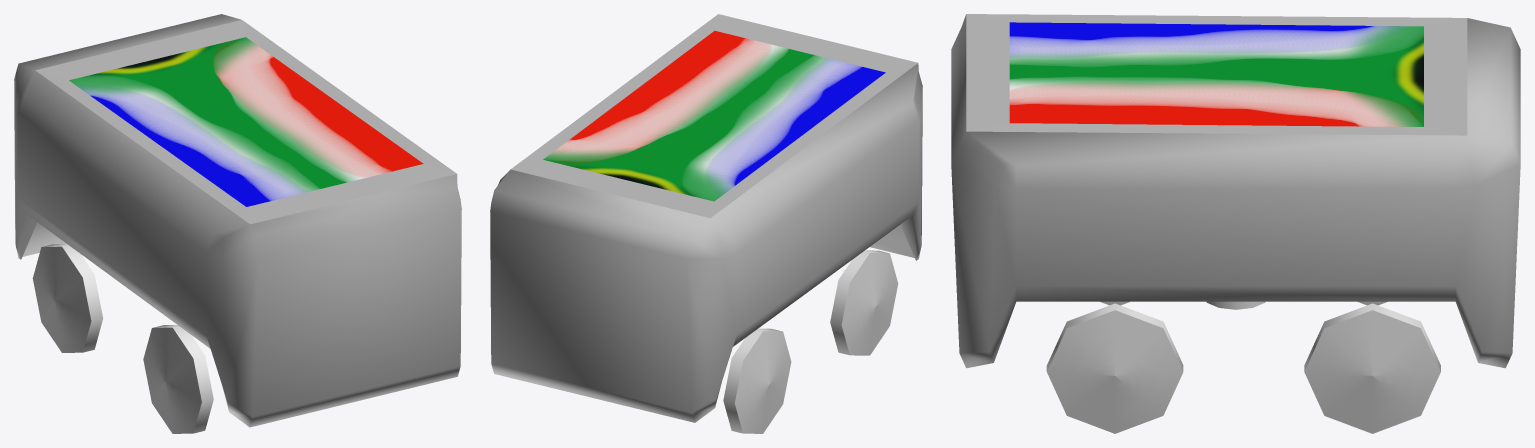
Rendered from Taxi.FBX.
3 renders of one model, left to right at view 1: azimuth 30°, elevation 25°; view 2: azimuth 150°, elevation 25°; view 3: azimuth 270°, elevation 25°, orthographic. The views are drawn at different scales.
Visible parts, largest first — view 1: TaxiBody, FrontRight, RearRight; view 2: TaxiBody, FrontRight, RearRight; view 3: TaxiBody, FrontLeft, RearLeft.
Part boxes in pixels (x1,y1,x2,y2): TaxiBody: (14, 14, 461, 427); FrontRight: (143, 325, 213, 433); RearRight: (32, 244, 103, 352); TaxiBody: (490, 14, 922, 422); FrontRight: (830, 250, 898, 355); RearRight: (723, 328, 791, 433); TaxiBody: (951, 14, 1520, 368); FrontLeft: (1046, 303, 1183, 433); RearLeft: (1304, 303, 1440, 433).
Bounding box in the file's own units: 74.25 × 125 × 71.37.
Materials: 2 (1 with a texture image).
